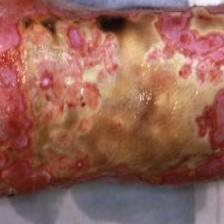burns: (0, 0, 224, 185)
